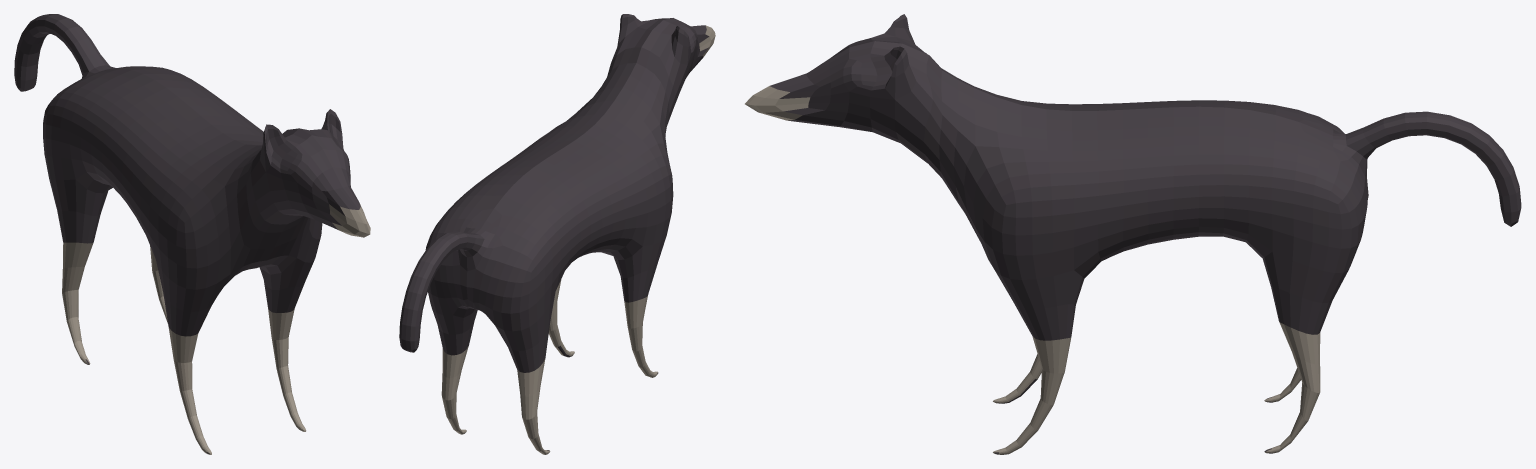
The model's file is jasper dog.glb.
3 renders of one model, left to right at view 1: azimuth 30°, elevation 25°; view 2: azimuth 150°, elevation 25°; view 3: azimuth 270°, elevation 25°, orthographic. The views are drawn at different scales.
Parts seen in each view (by area): view 1: Cube.003; view 2: Cube.003; view 3: Cube.003.
Part boxes in pixels (bbox=[...]): Cube.003: bbox=[14, 14, 370, 454]; Cube.003: bbox=[399, 14, 715, 454]; Cube.003: bbox=[745, 14, 1521, 454].
Bounding box in the file's own units: 3.74 × 8.63 × 15.28.
